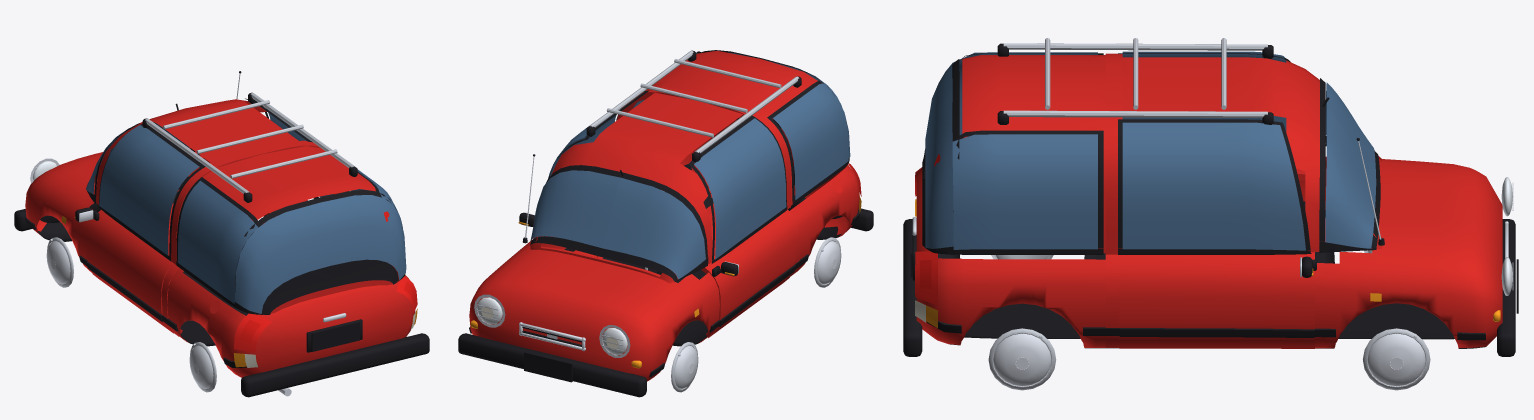
Rendered from veh_kancil.fbx.
The picture shows the model from 3 angles, left to right: view 1: azimuth 30°, elevation 25°; view 2: azimuth 150°, elevation 25°; view 3: azimuth 270°, elevation 25°; orthographic projection. The views are drawn at different scales.
Visible parts, largest first — view 1: Body, Glass, Detail, Door_FL_Glass, Door_FL, Var_Rack_a_Roof, BrakeLights, Rim_RL, Rim_FL; view 2: Body, Glass, Detail, Door_FL_Glass, Door_FL, Var_Rack_a_Roof, HeadLights, Rim_FL, Rim_RL, Door_FR_Glass, Door_FR; view 3: Body, Glass, Door_FR_Glass, Door_FR, Detail, Var_Rack_a_Roof, Rim_FR, Rim_RR, Door_FL_Glass, BrakeLights, HeadLights.
Boxes of the visible parts, bbox=[...] form: Body: bbox=[25, 99, 415, 377]; Glass: bbox=[86, 122, 406, 313]; Detail: bbox=[14, 103, 429, 397]; Door_FL_Glass: bbox=[99, 125, 199, 255]; Door_FL: bbox=[86, 124, 205, 333]; Var_Rack_a_Roof: bbox=[142, 92, 357, 202]; BrakeLights: bbox=[233, 276, 417, 352]; Rim_RL: bbox=[189, 342, 216, 392]; Rim_FL: bbox=[46, 237, 73, 287]; Body: bbox=[469, 50, 859, 381]; Glass: bbox=[530, 52, 850, 279]; Detail: bbox=[458, 50, 873, 397]; Door_FL_Glass: bbox=[694, 118, 786, 259]; Door_FL: bbox=[688, 115, 795, 337]; Var_Rack_a_Roof: bbox=[586, 50, 801, 161]; HeadLights: bbox=[476, 297, 627, 355]; Rim_FL: bbox=[671, 342, 698, 392]; Rim_RL: bbox=[814, 237, 841, 287]; Door_FR_Glass: bbox=[548, 114, 616, 178]; Door_FR: bbox=[541, 90, 649, 257]; Body: bbox=[916, 53, 1502, 348]; Glass: bbox=[925, 52, 1376, 249]; Door_FR_Glass: bbox=[1122, 122, 1305, 250]; Door_FR: bbox=[1118, 119, 1314, 348]; Detail: bbox=[903, 53, 1518, 356]; Var_Rack_a_Roof: bbox=[997, 38, 1273, 124]; Rim_FR: bbox=[1363, 328, 1430, 390]; Rim_RR: bbox=[988, 328, 1056, 390]; Door_FL_Glass: bbox=[1122, 51, 1286, 131]; BrakeLights: bbox=[915, 167, 937, 305]; HeadLights: bbox=[1501, 177, 1513, 295].
Size of what is drawn, in the model's own units: 1.74 by 1.62 by 3.27.
Materials: 1 (1 with a texture image).
